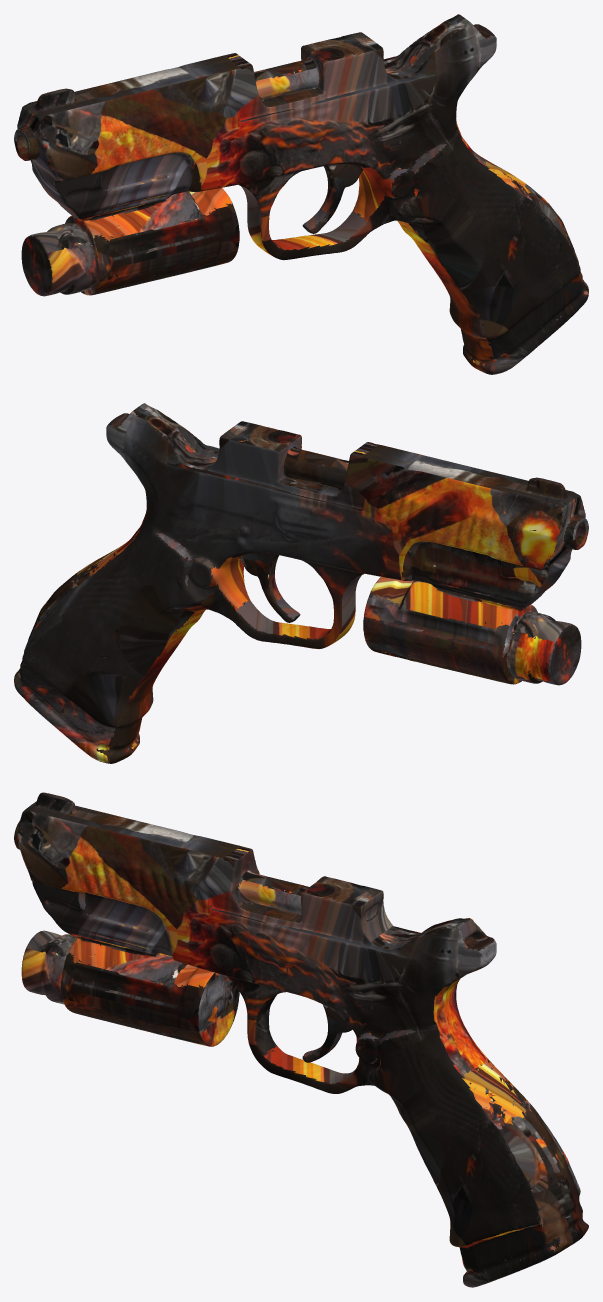
File: MoltenPistol.obj
3 views of the same model, one above another, from view 1: azimuth 30°, elevation 25°; view 2: azimuth 150°, elevation 25°; view 3: azimuth 330°, elevation 25° (orthographic).
Visible parts, largest first — view 1: MoltenPistol; view 2: MoltenPistol; view 3: MoltenPistol.
Part boxes in pixels (x1=…): MoltenPistol: x1=14, y1=14, x2=588, y2=374; MoltenPistol: x1=14, y1=403, x2=588, y2=763; MoltenPistol: x1=14, y1=792, x2=588, y2=1287.
Bounding box in the file's own units: 2 × 1.3 × 0.2803.
1 material, 1 textured.
